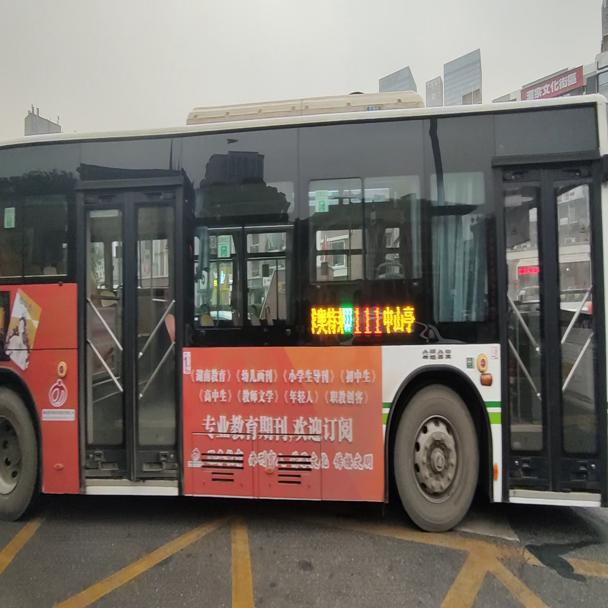bus: (0, 78, 606, 537)
screen: (352, 306, 380, 340)
